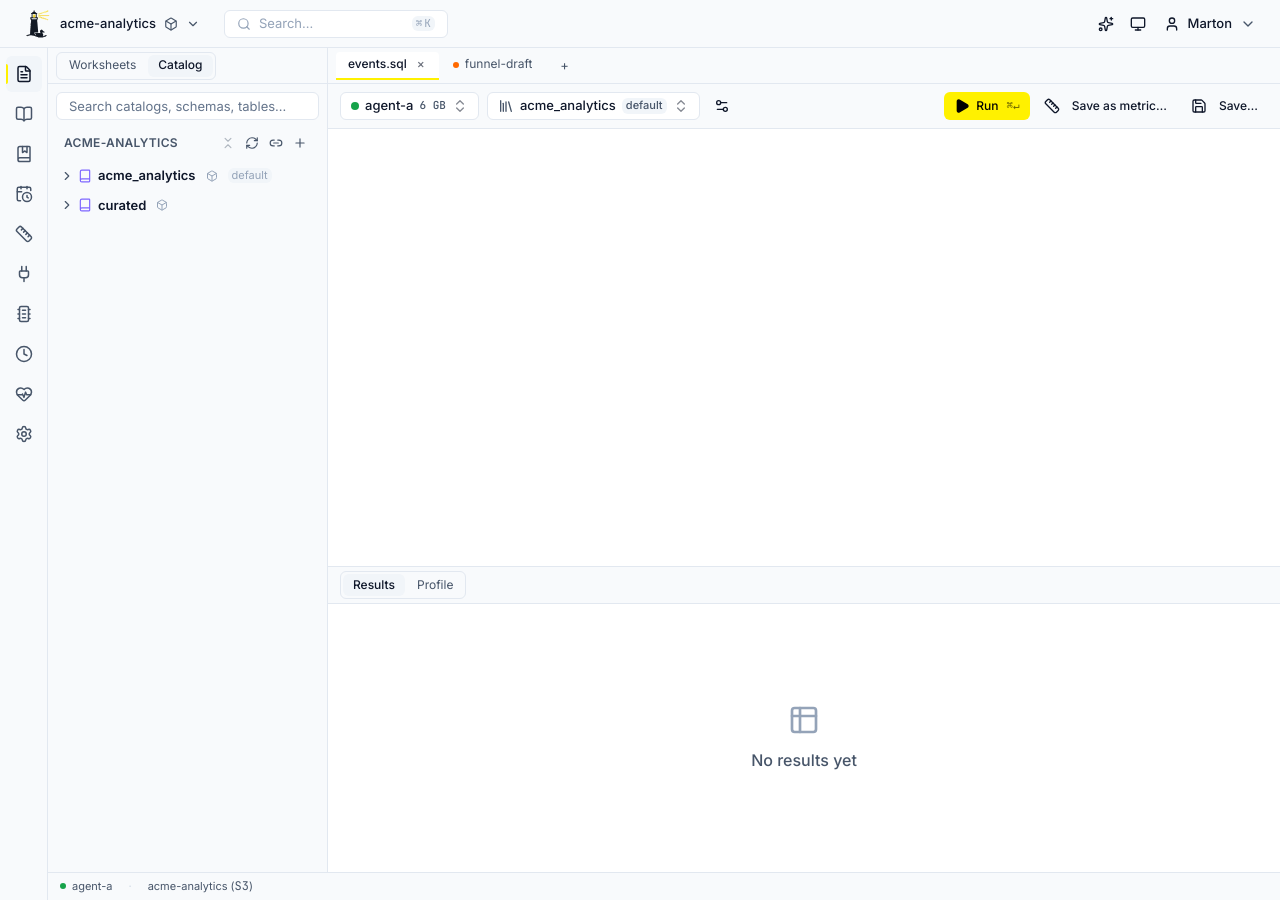
Test: AssistantPanel › opens from the top bar and shows the seeded conversation
Step 1. Click the button named "Toggle AI assistant" → [1106, 24], box [1092,10,1120,38]
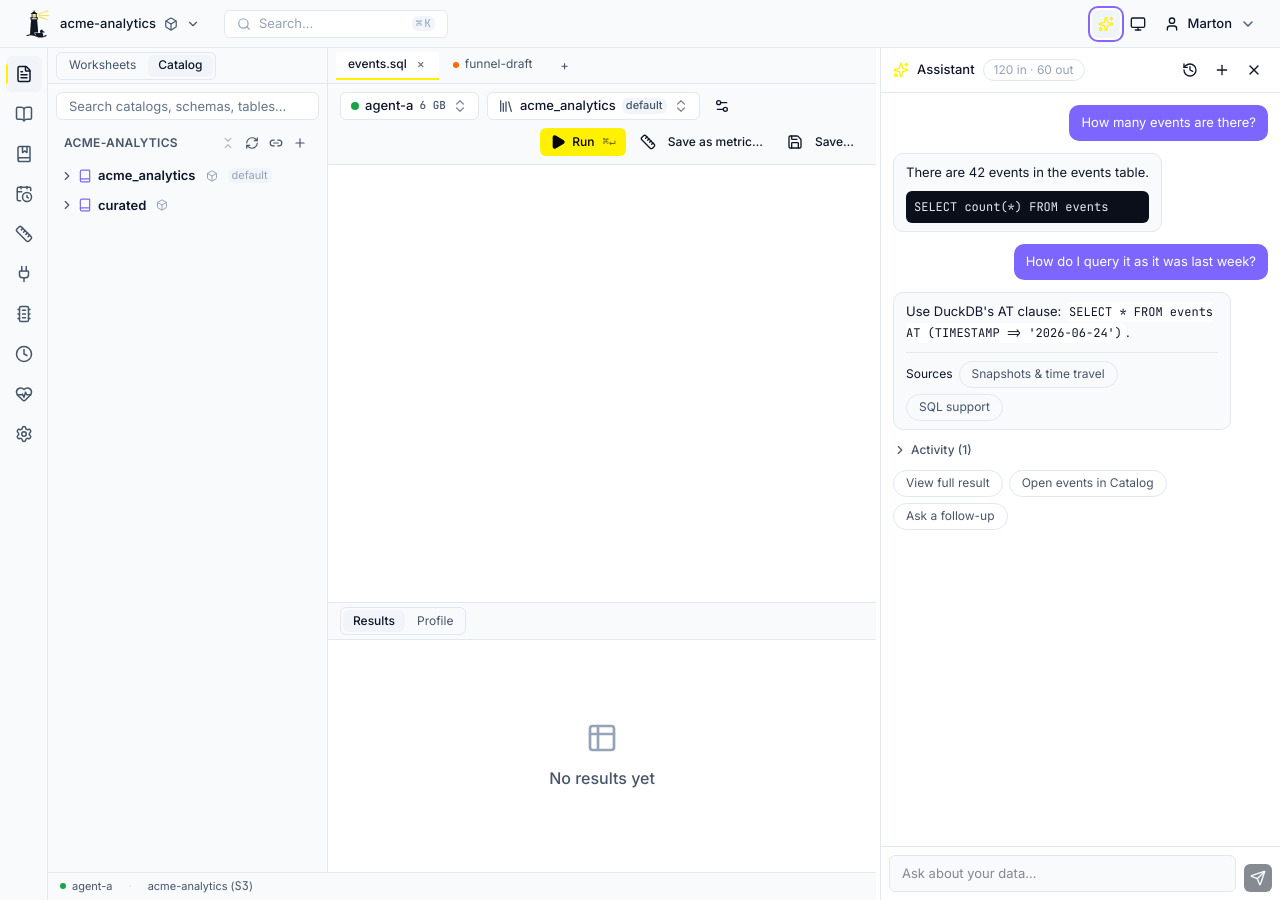
Expected: the element named "AI assistant" is shown, [880,48,1279,899]
Expected: the text "There are 42 events in the events table." is shown, [906,162,1149,183]
